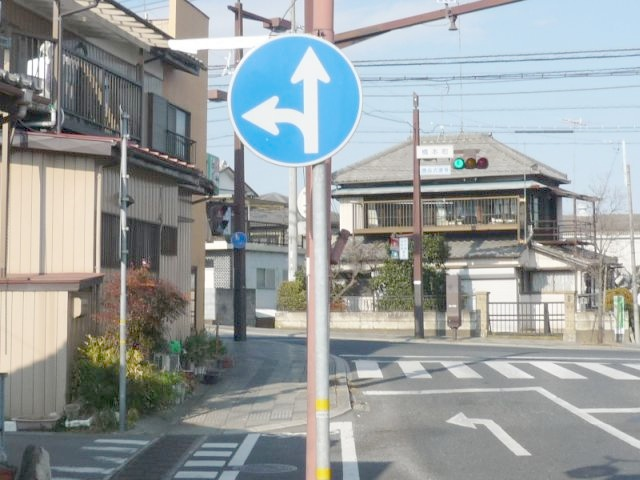Direction_sign: (218, 29, 371, 179)
